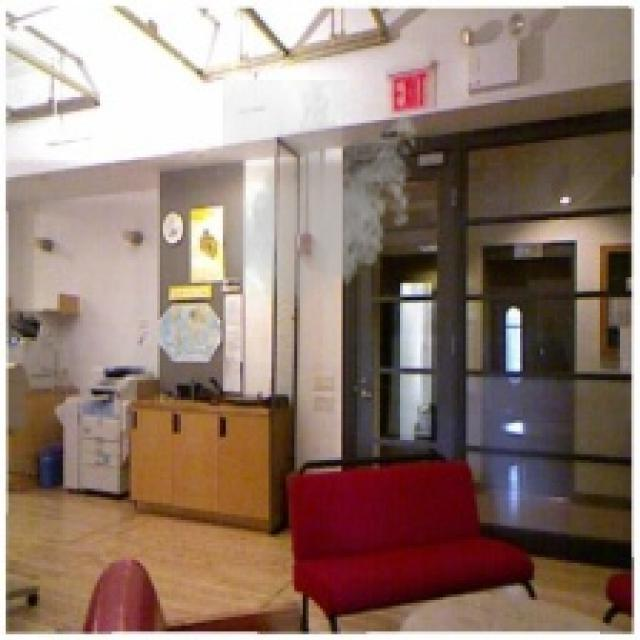smoke: (223, 80, 423, 317)
